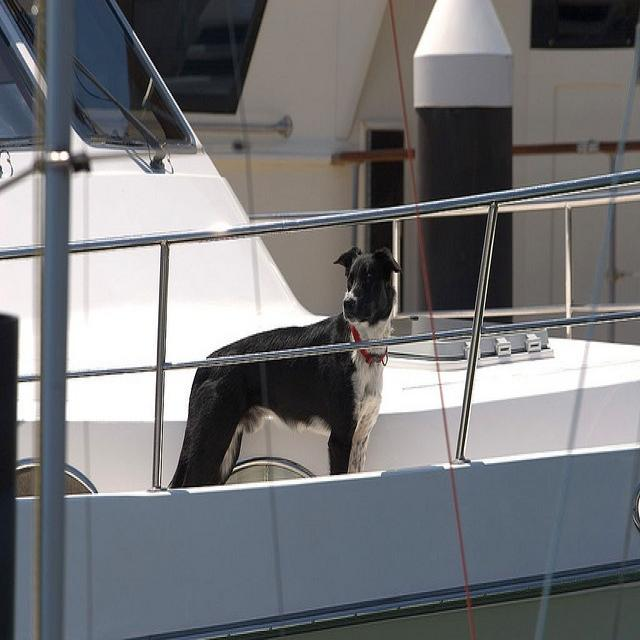dog: (165, 244, 401, 489)
pole: (24, 2, 79, 636)
